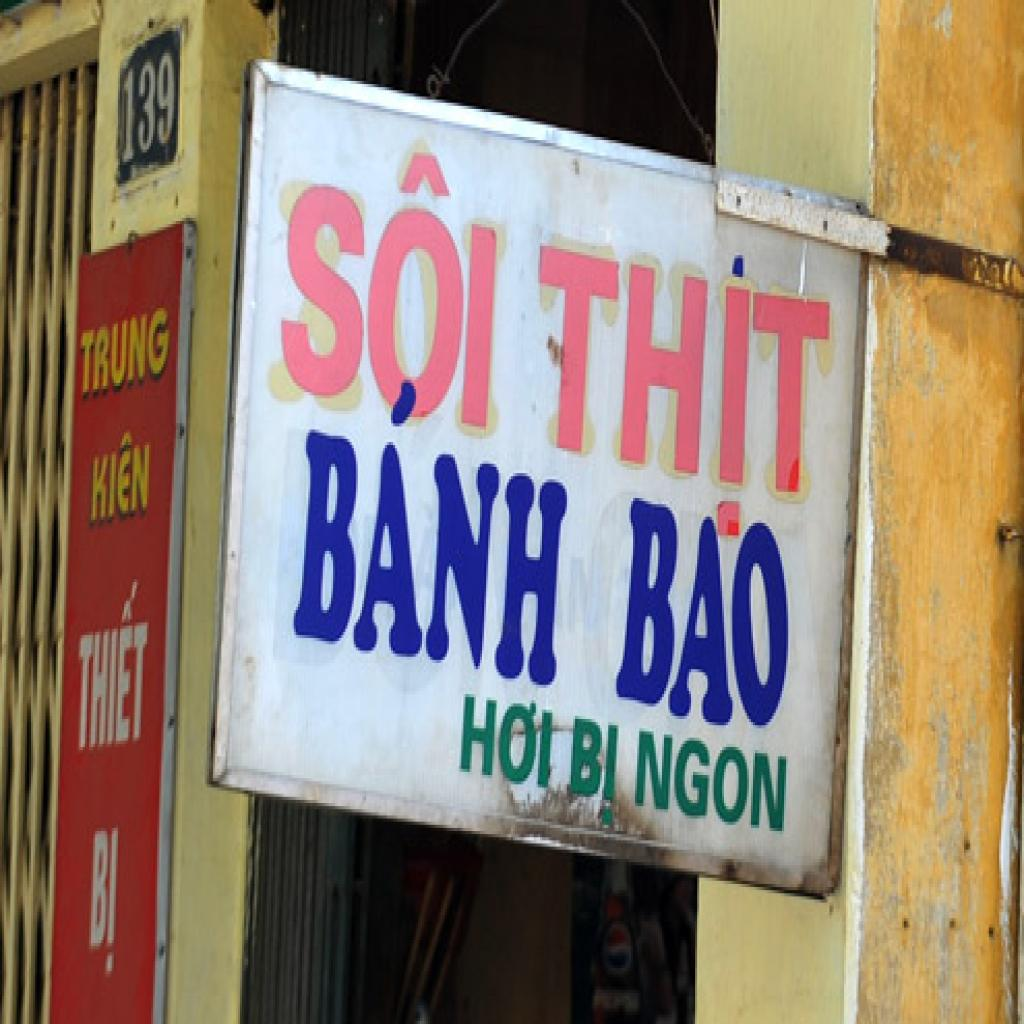text: (528, 237, 836, 560), (286, 361, 580, 691), (273, 118, 507, 439), (612, 492, 803, 744), (631, 722, 790, 840), (72, 573, 158, 753), (455, 678, 557, 794), (78, 305, 174, 402), (564, 707, 622, 831), (120, 47, 178, 168), (87, 430, 153, 529)
